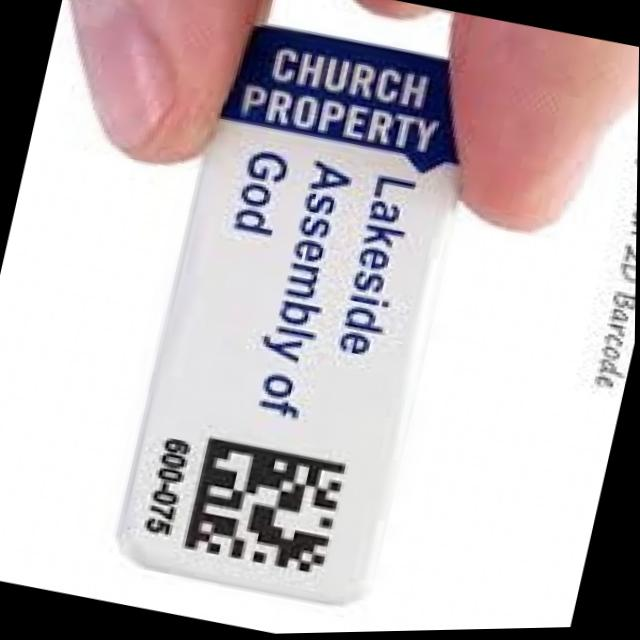datamatrix: (171, 427, 364, 590)
